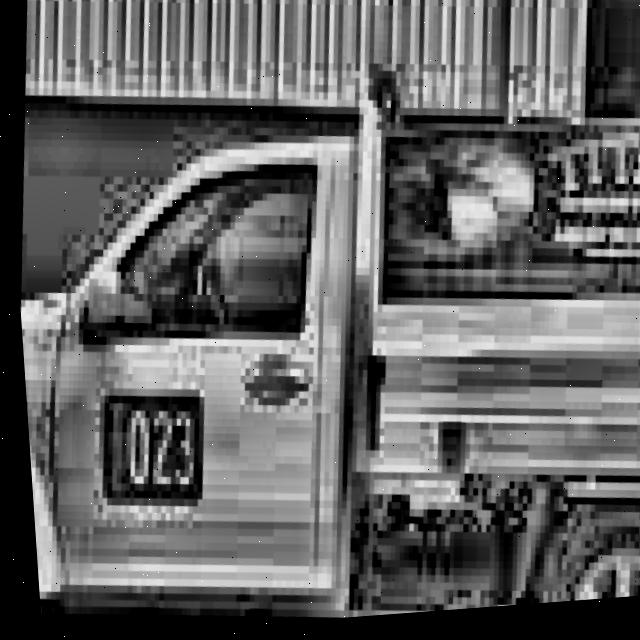light_vehicle: (2, 1, 640, 640)
